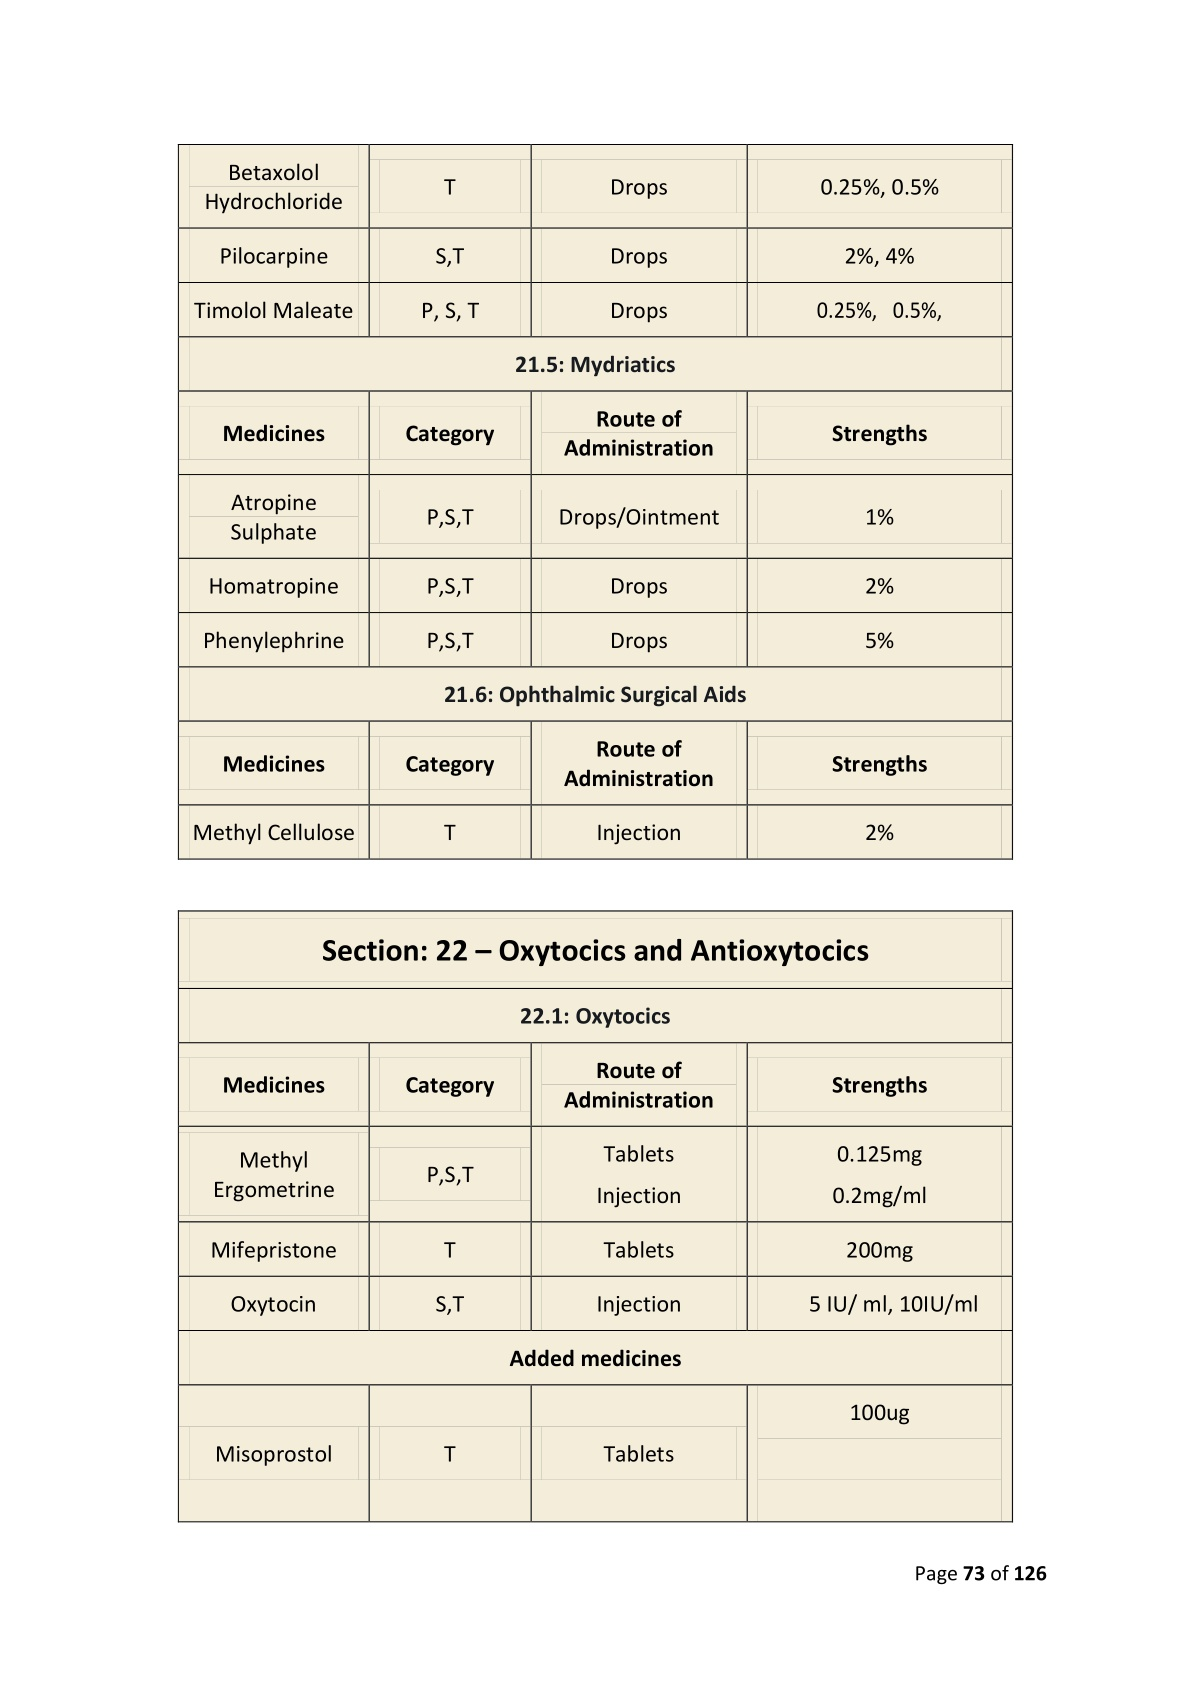merged_cells: (177, 143, 1014, 862), (177, 908, 1014, 1522)
